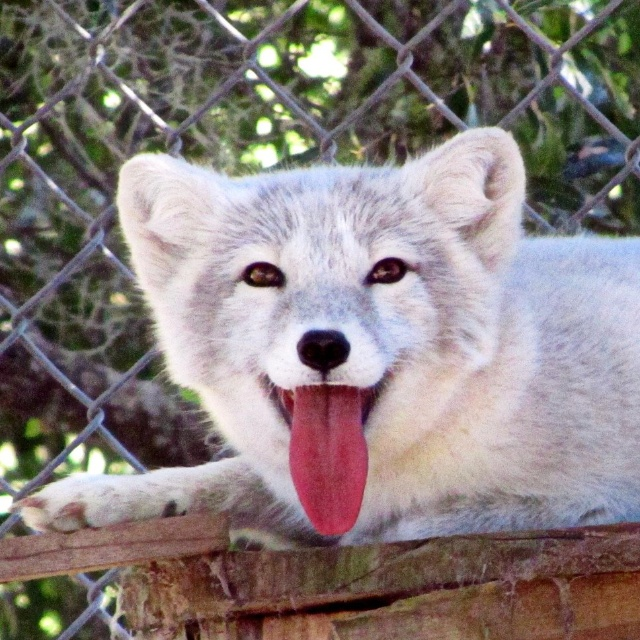Fox: (7, 123, 639, 551)
